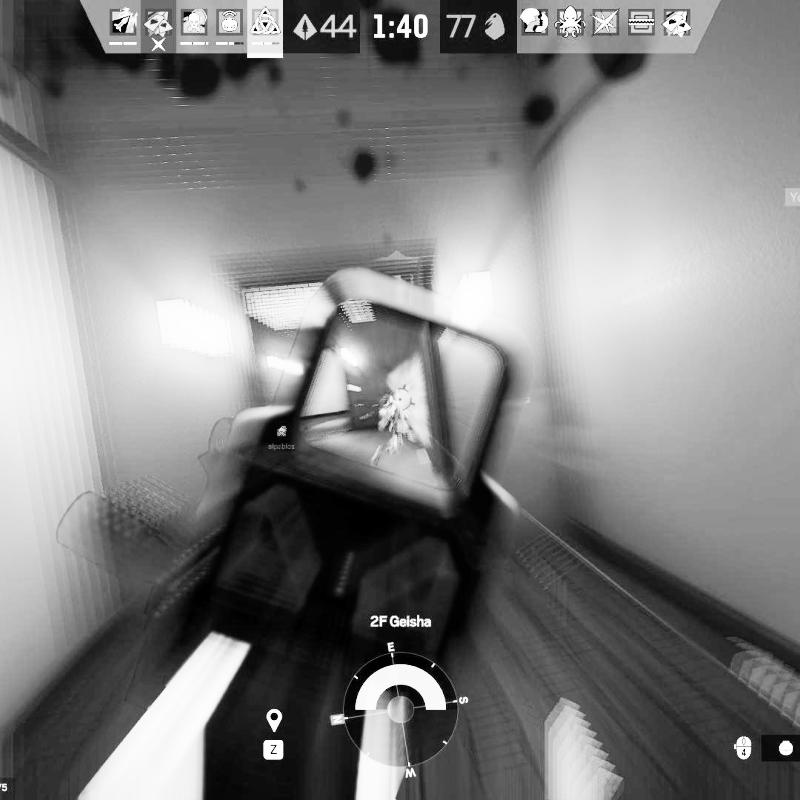Character: (370, 384, 428, 469)
Friend_label: (268, 424, 295, 451)
